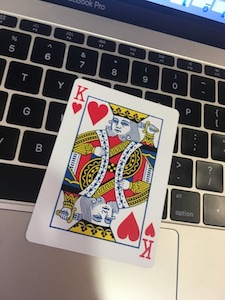KingOfHearts: (24, 77, 182, 269)
